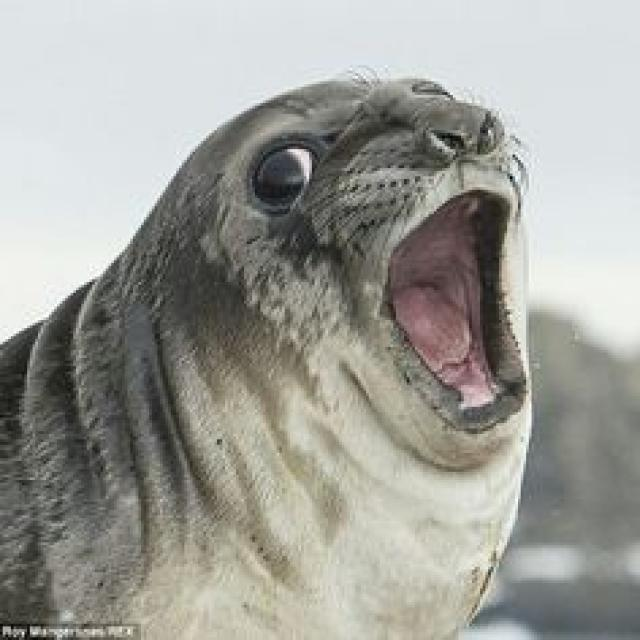Carnivorous: (0, 76, 534, 640)
